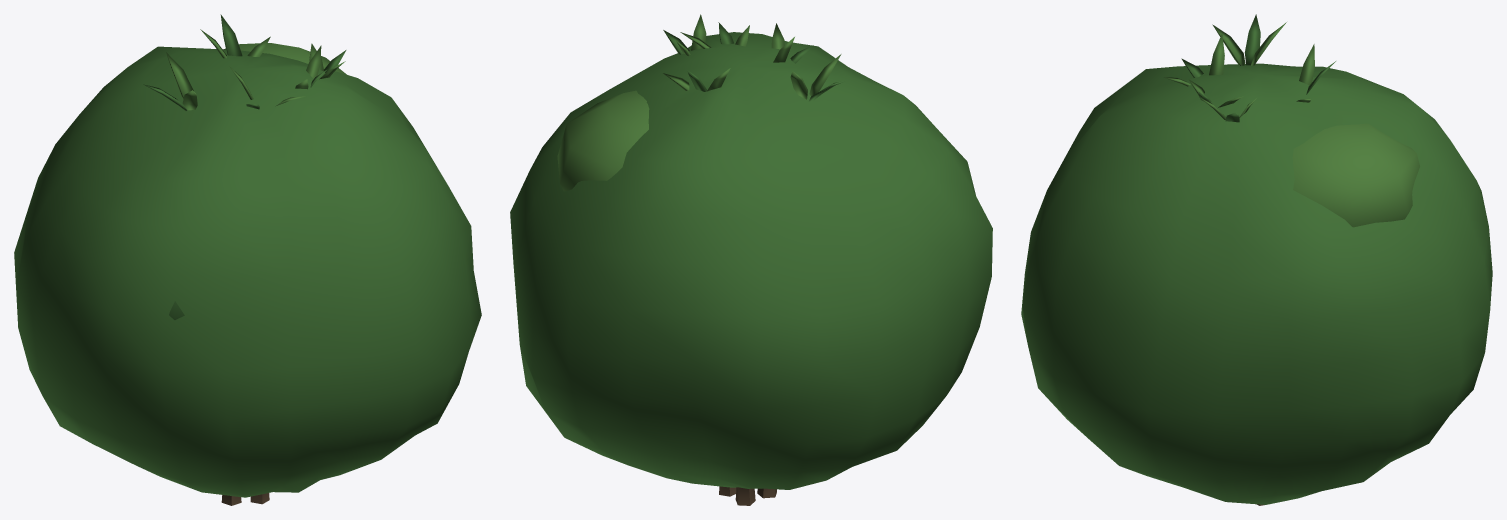
File: boxwood.glb
3 renders of one model, left to right at view 1: azimuth 30°, elevation 25°; view 2: azimuth 150°, elevation 25°; view 3: azimuth 270°, elevation 25°, orthographic.
Parts seen in each view (by area): view 1: boxwood, sprigs; view 2: boxwood, sprigs; view 3: boxwood, sprigs.
Part boxes in pixels (x1,y1,x2,y2): boxwood: (14,43,481,505); sprigs: (143,14,346,110); boxwood: (510,32,992,505); sprigs: (663,14,846,101); boxwood: (1021,63,1492,505); sprigs: (1163,14,1335,122).
Bounding box in the file's own units: 0.69 × 0.7519 × 0.72.
